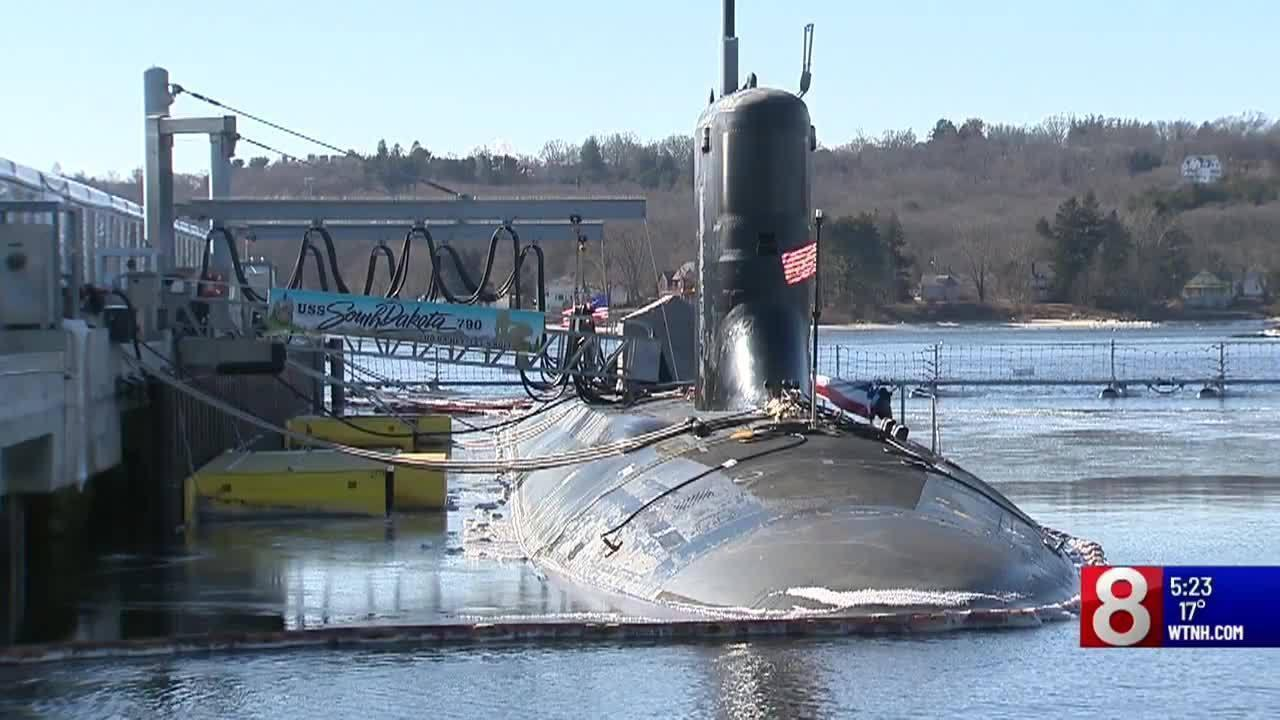Submarine: (498, 7, 1082, 720)
